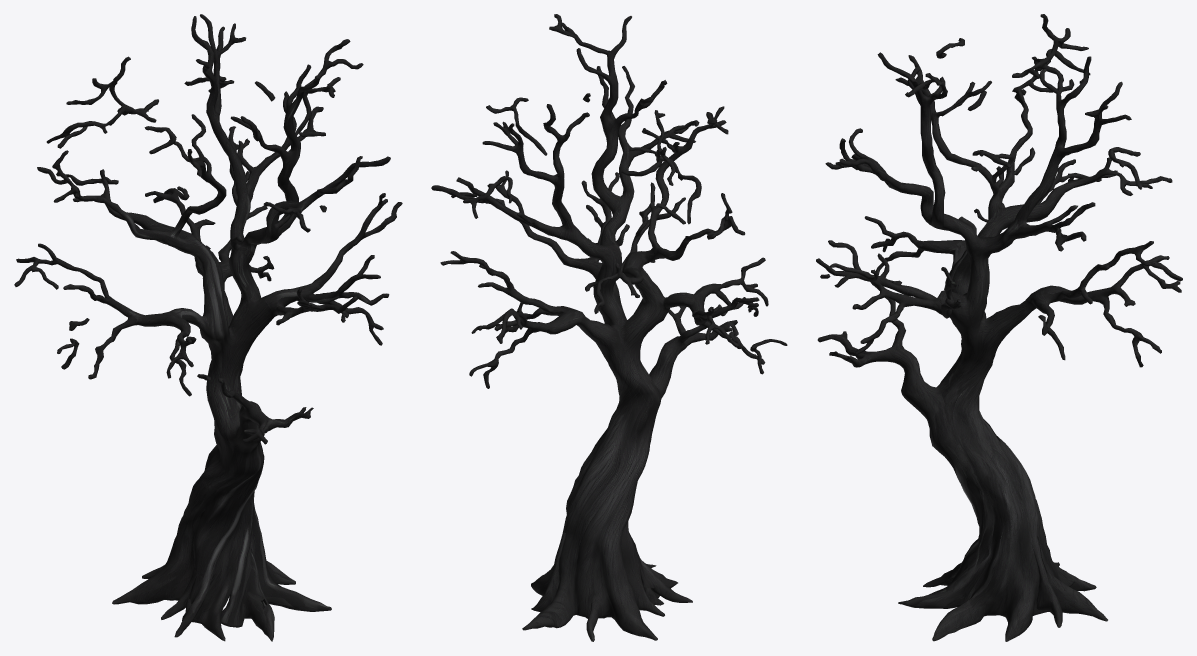
Rendered from estate_dead_tree.glb.
3 views of the same model, side by side, from view 1: azimuth 30°, elevation 25°; view 2: azimuth 150°, elevation 25°; view 3: azimuth 270°, elevation 25° (orthographic). The views are drawn at different scales.
Bounding box in the file's own units: 1.18 × 1.91 × 1.1.
1 material, 1 textured.
